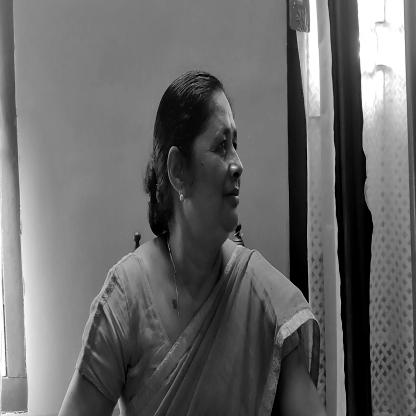Distracted: (147, 70, 246, 250)
